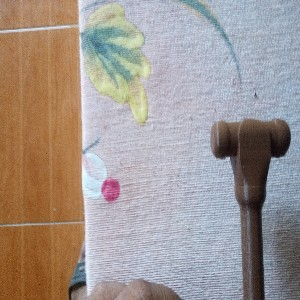palu: (210, 116, 292, 300)
